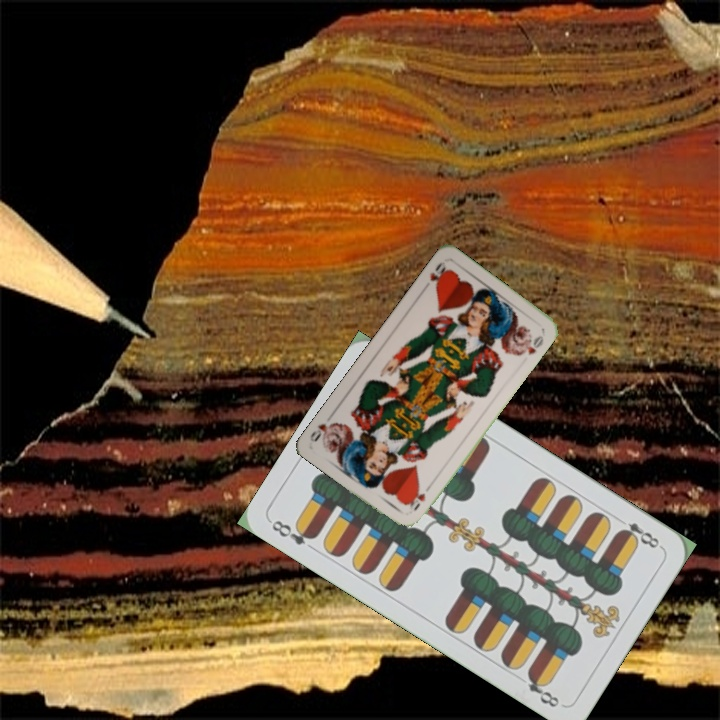E8: (267, 516, 320, 548), (614, 518, 664, 551)
HO: (425, 258, 451, 290), (404, 485, 428, 513)
